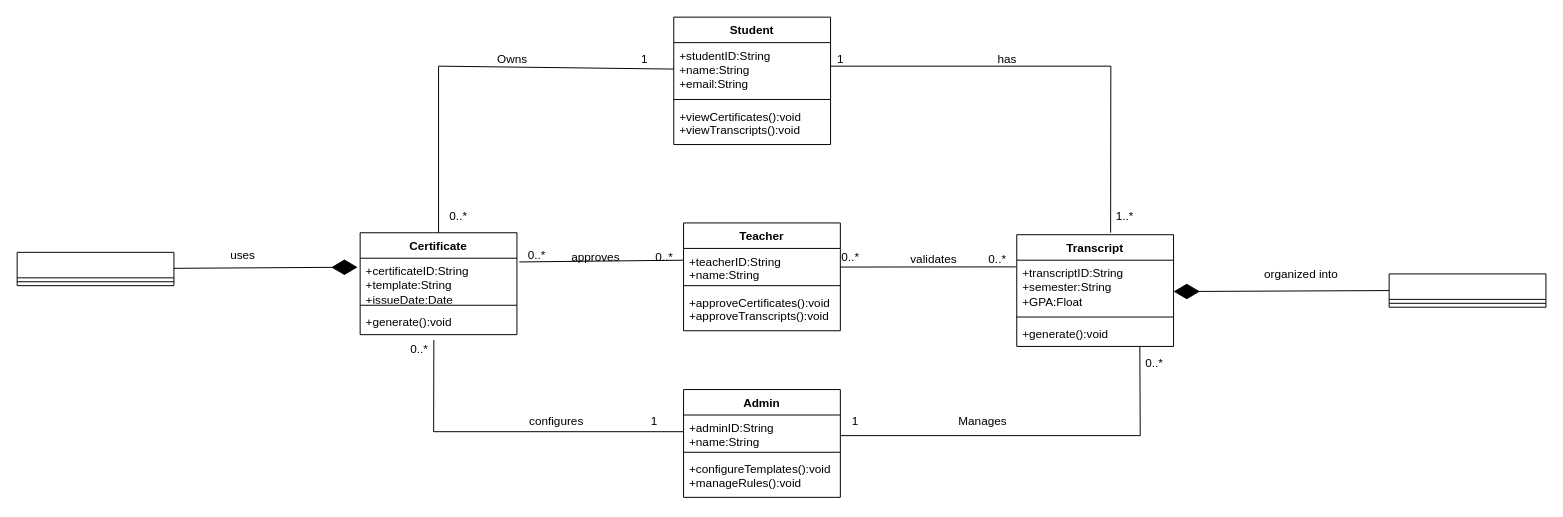
Image size: 1563x517. Some labels were removed from this diagram. Here are the shapes that lost their labels. From the top down, the centre of each, then its label:
point 95,268: Template
point 1467,290: Semester
